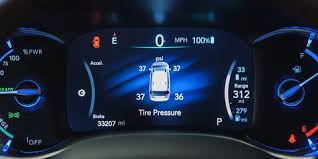Digital_Meter: (91, 112, 130, 133)
